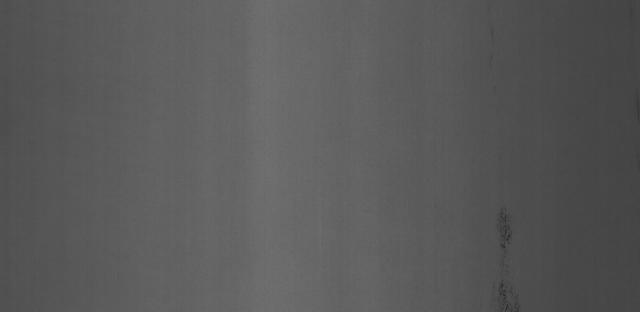inclusion: (487, 202, 531, 310)
